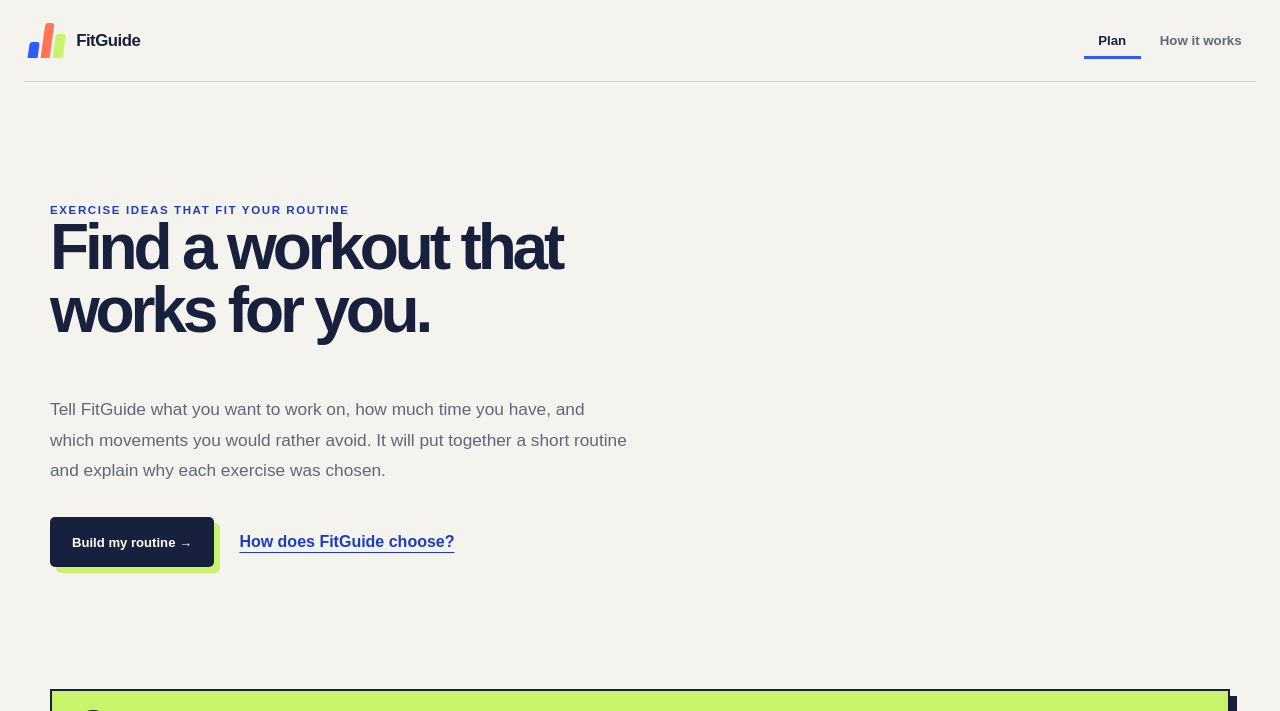
Test case: FitGuide application › displays an API error and offers recovery
The width and height of the screenshot is (1280, 711).
Click the button "Build my routine →": (132, 542) left=50, top=517, right=214, bottom=567
(page scrolled)
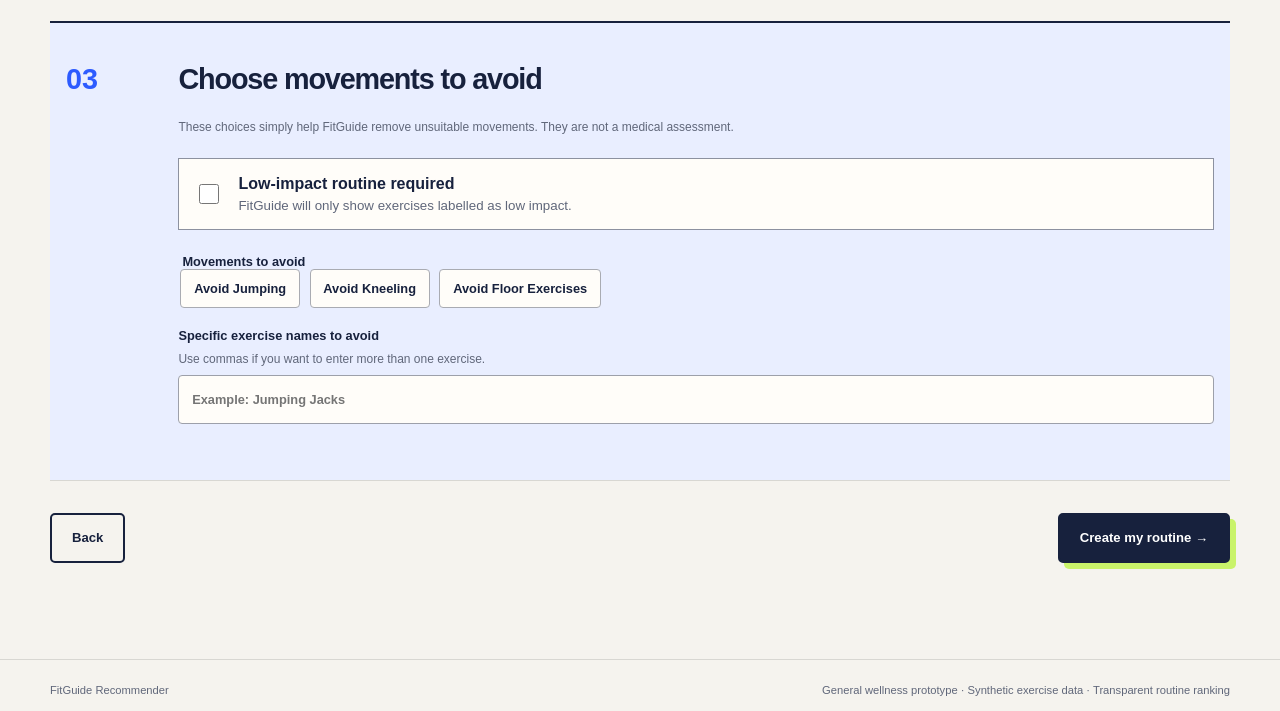
Click the button "Create my routine →": (1144, 538) left=1058, top=513, right=1230, bottom=563
(page scrolled)
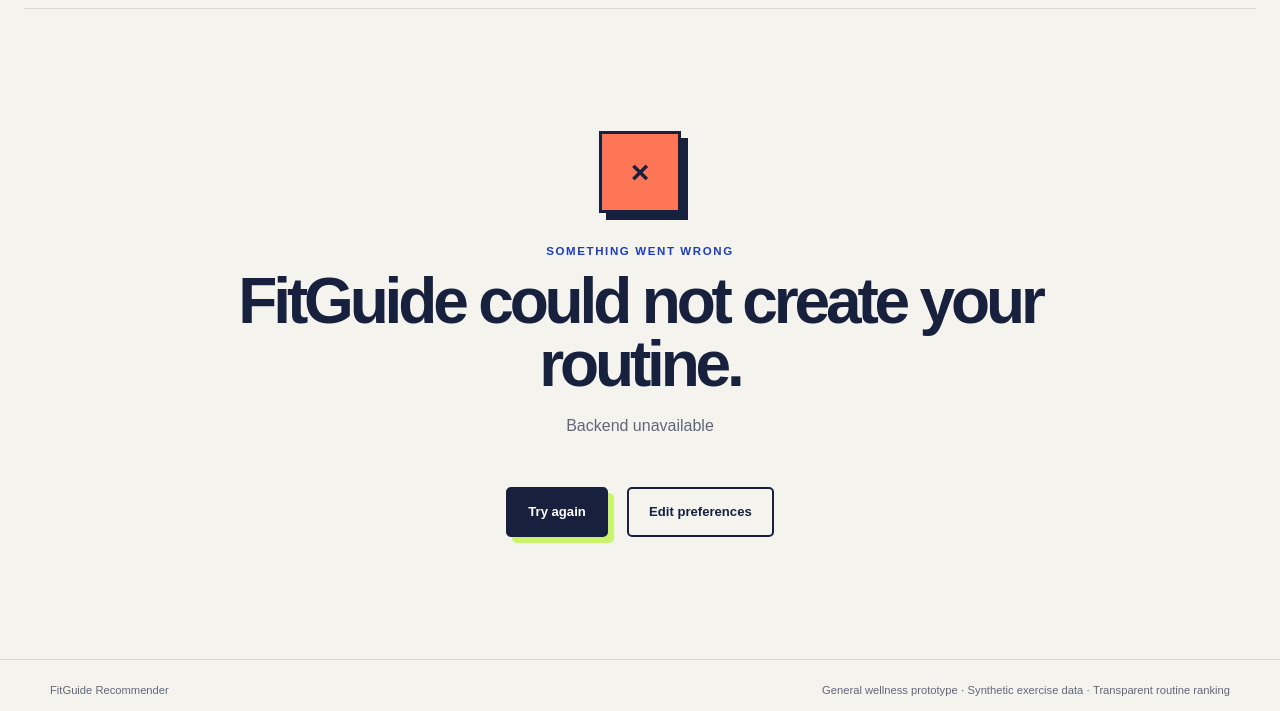
Check: the message reads "Backend unavailable", box left=566, top=416, right=714, bottom=434
Check: the button "Edit preferences" is shown, box left=627, top=487, right=774, bottom=537
